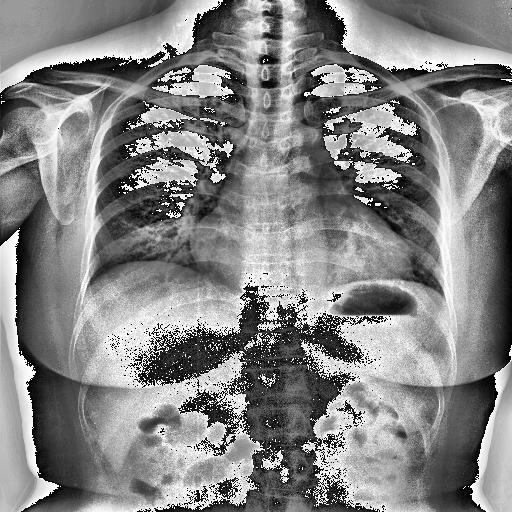3- Cardiomegaly: (192, 210, 411, 282), (188, 224, 414, 288), (188, 232, 415, 279)
